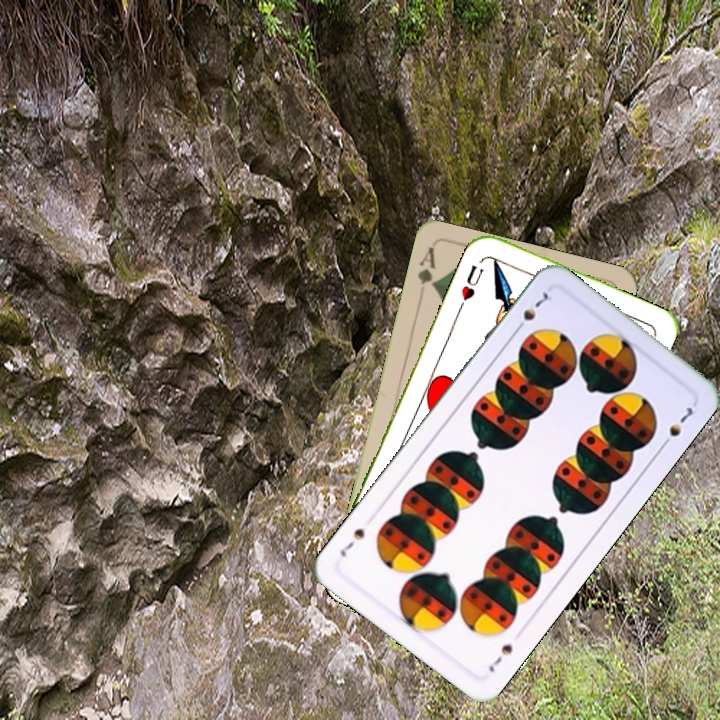GA: (413, 244, 439, 291)
HU: (457, 261, 487, 303)
S7: (510, 288, 555, 335), (484, 640, 516, 675)
